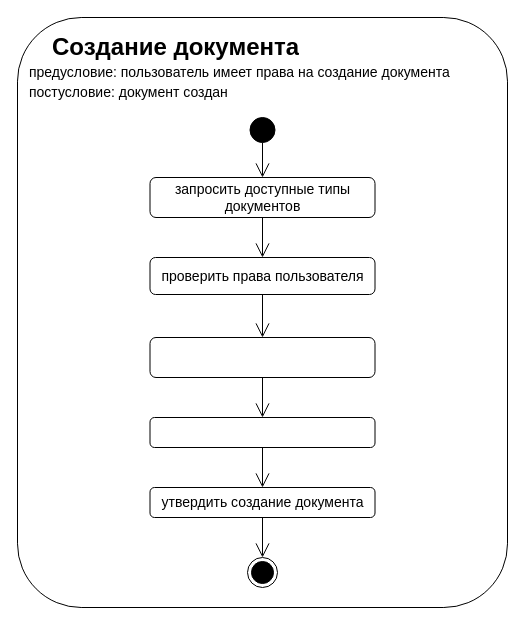
The diagram is 525 pixels wide and 625 high, and some of its shapes have lost their labels. Each missing label, with the centre of its shape:
"заполнить шаблон" belongs at pixel 262 432.
"запросить шаблон документа выбранного типа" belongs at pixel 262 357.
